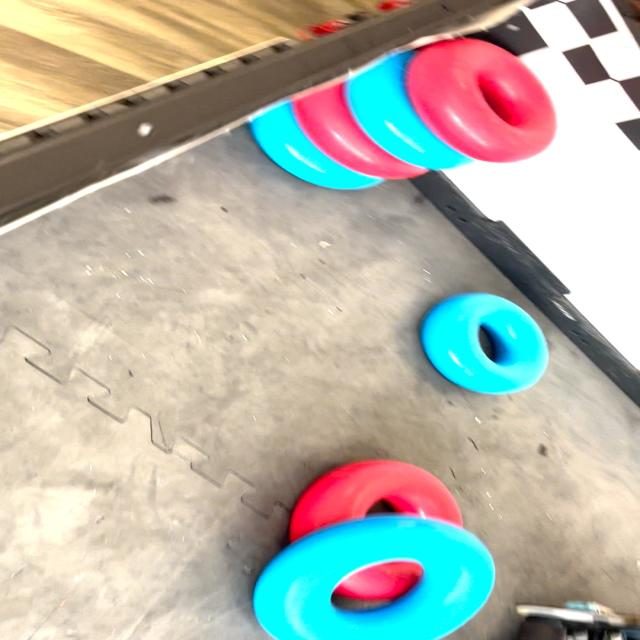Blue-Ring: (253, 514, 496, 640), (347, 51, 471, 170), (420, 292, 549, 395), (249, 102, 382, 190)
Red-Ring: (407, 39, 556, 162), (289, 460, 462, 541), (293, 84, 427, 179)
